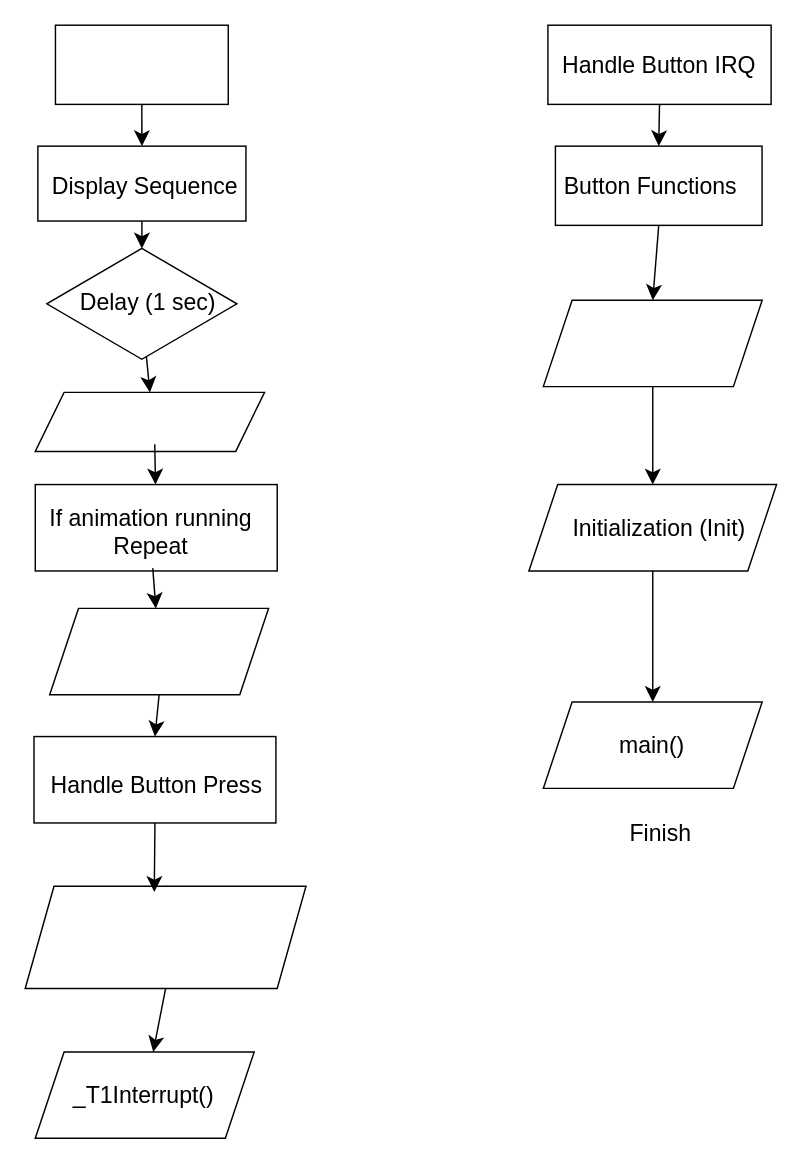
This 802x1164 diagram has some shape labels left out. The centre of each missing label's shape, as x and y in pixels:
"Button_Check()" belongs at [158,651].
"Handle Animation Start/Stop/Speed" belongs at [165,937].
"Next Sequence" belongs at [149,421].
"Start_Buttons()" belongs at [652,343].
"Start_LCD" belongs at [141,64].
